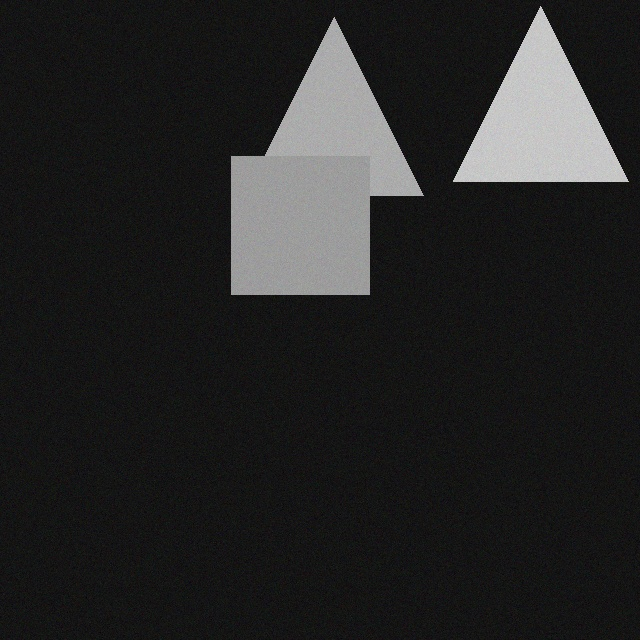square: (235, 168, 373, 306)
triangle: (249, 29, 427, 207), (457, 18, 632, 193)
